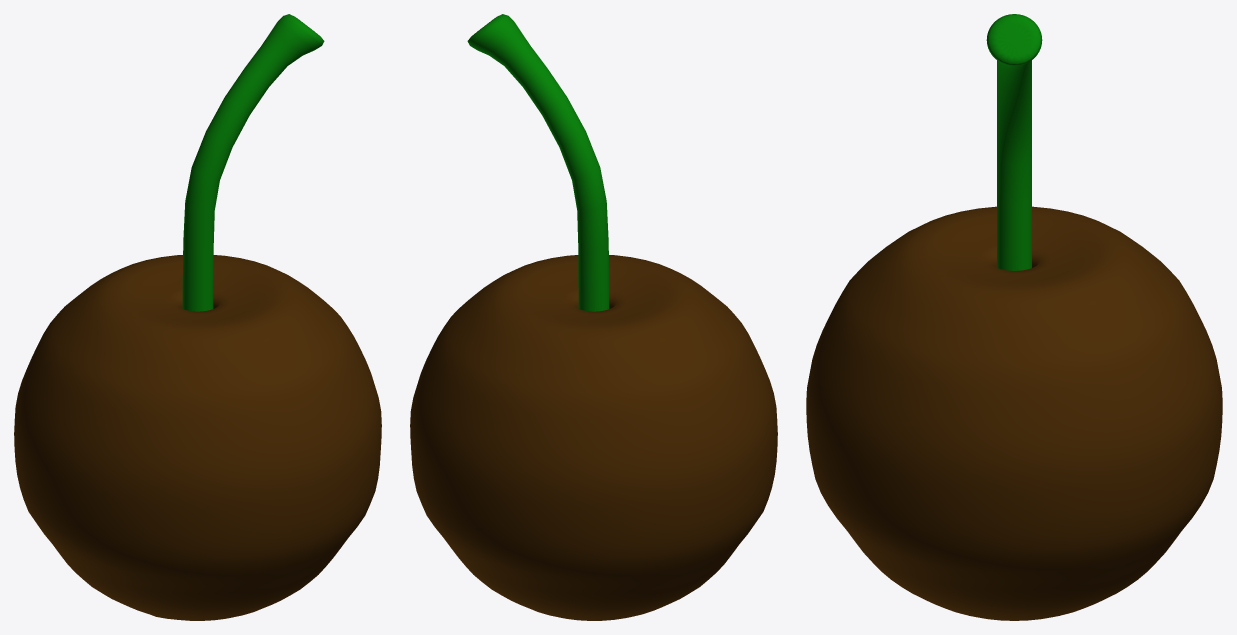
File: burntcherry.fbx
3 renders of one model, left to right at view 1: azimuth 30°, elevation 25°; view 2: azimuth 150°, elevation 25°; view 3: azimuth 270°, elevation 25°, orthographic. The views are drawn at different scales.
Visible parts, largest first — view 1: pSphere1; view 2: pSphere1; view 3: pSphere1.
Boxes of the visible parts, x1,y1,x2,y2 form: pSphere1: [14, 14, 381, 620]; pSphere1: [410, 14, 777, 620]; pSphere1: [806, 14, 1222, 620].
Bounding box in the file's own units: 1.98 × 3.32 × 1.98.
